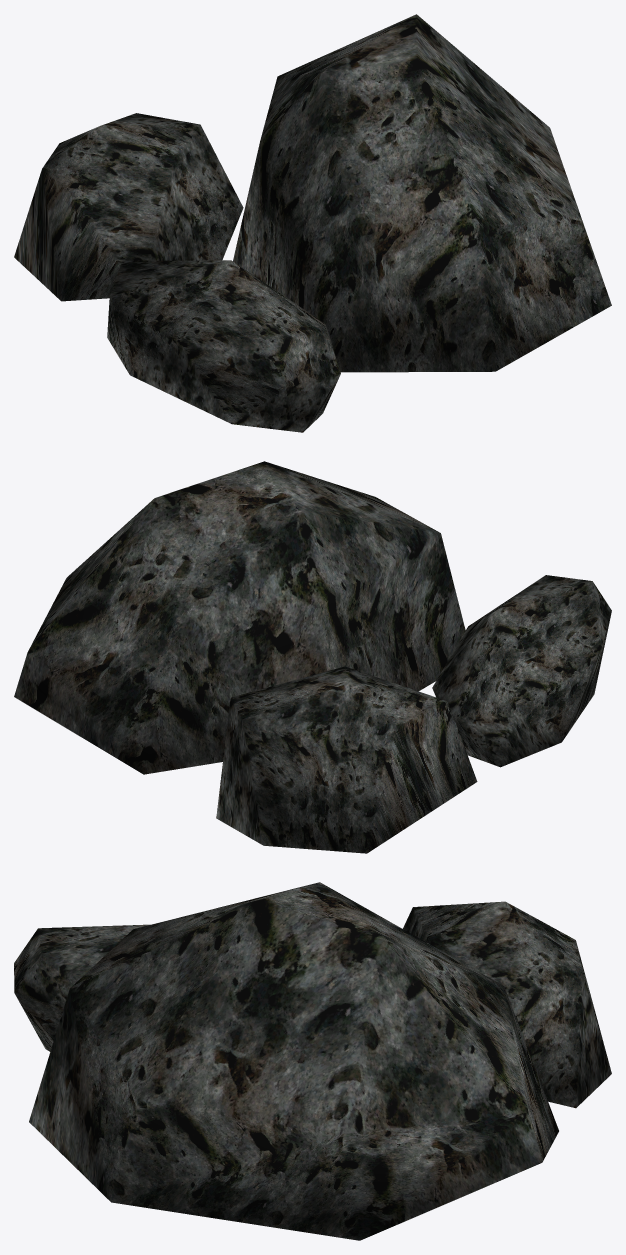
File: rock_scorched_small_l2.fbx
3 renders of one model, top to bottom at view 1: azimuth 30°, elevation 25°; view 2: azimuth 150°, elevation 25°; view 3: azimuth 270°, elevation 25°, orthographic. The views are drawn at different scales.
Parts seen in each view (by area): view 1: mesh_node; view 2: mesh_node; view 3: mesh_node.
Part boxes in pixels (<box>): mesh_node: <box>14,14,611,432</box>; mesh_node: <box>14,461,611,853</box>; mesh_node: <box>14,882,611,1240</box>.
Size of the model in its own units: 2.21 by 1.05 by 2.16.
1 material, 1 textured.
